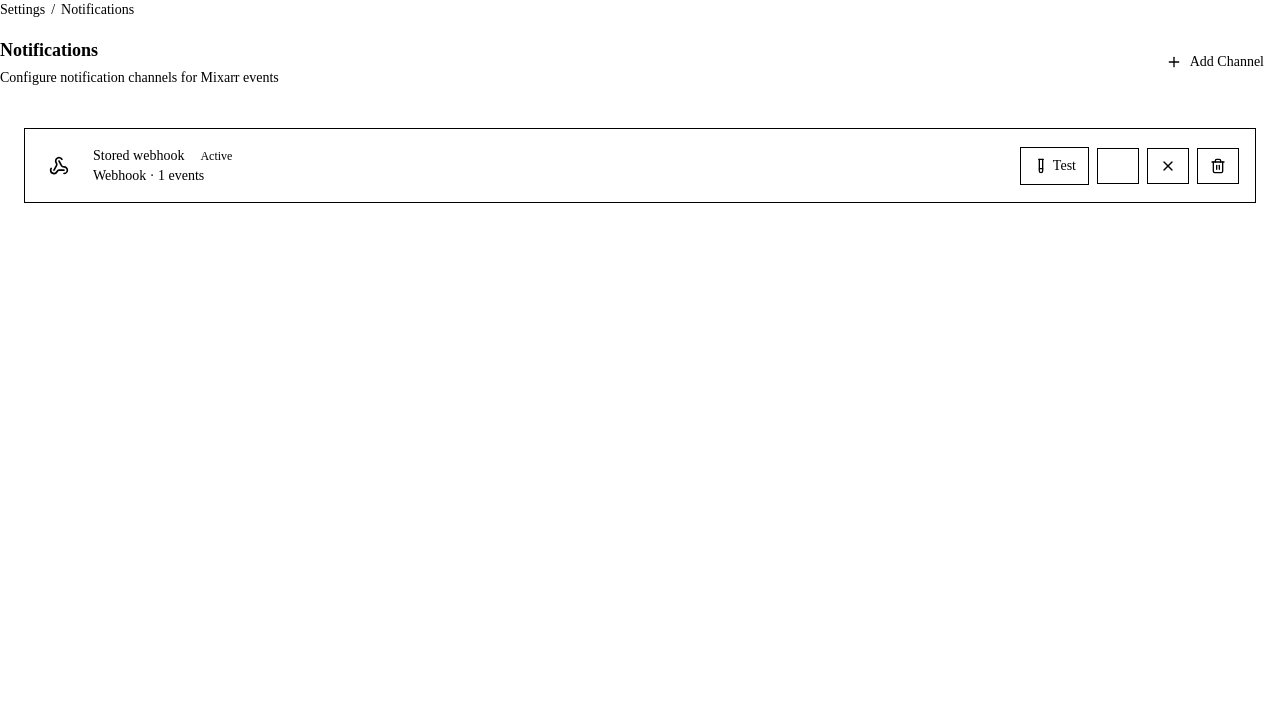
Test: refuses edited invalid headers on a masked channel and focuses the field
expect the heading "Stored webhook" is shown: met, box x1=93 y1=145 x2=184 y2=166
Step 1. Click the 3rd button → [1118, 166], box x1=1097 y1=148 x2=1139 y2=184
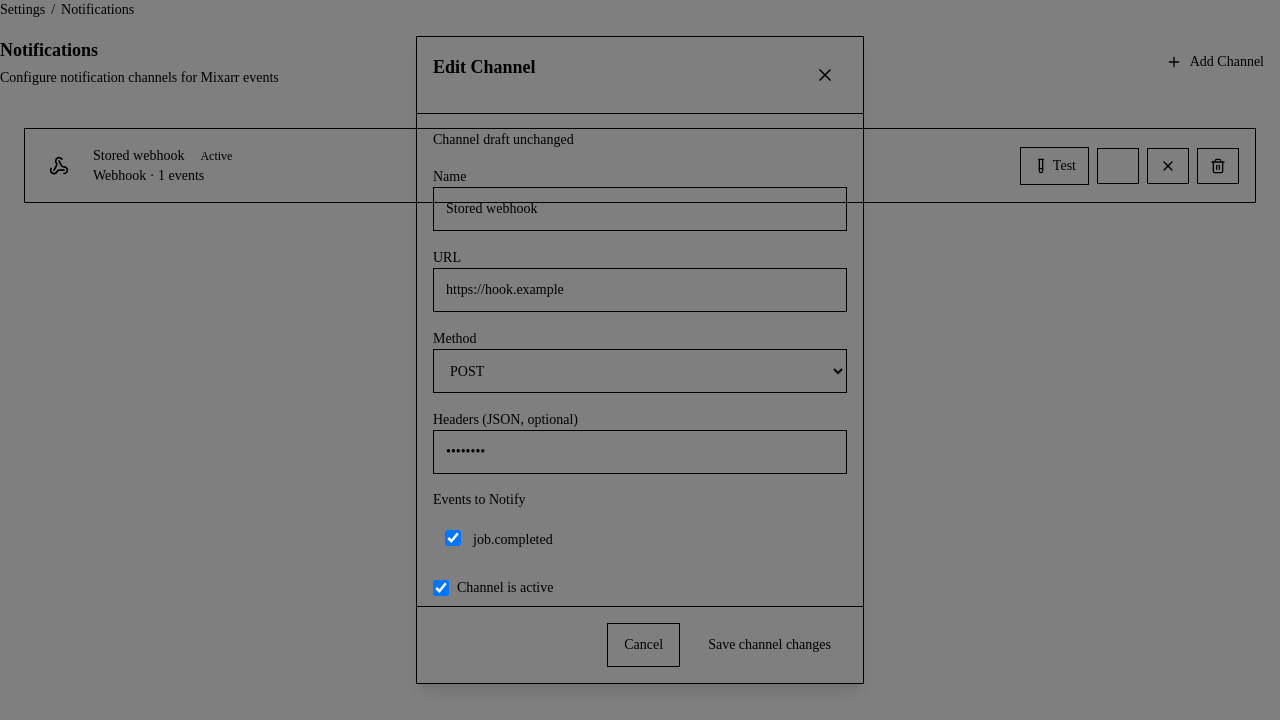
Step 2. Replace the text in the field labelled "Headers (JSON, optional)" with "\"arbitrary string\"" → [640, 452], box x1=433 y1=430 x2=847 y2=474
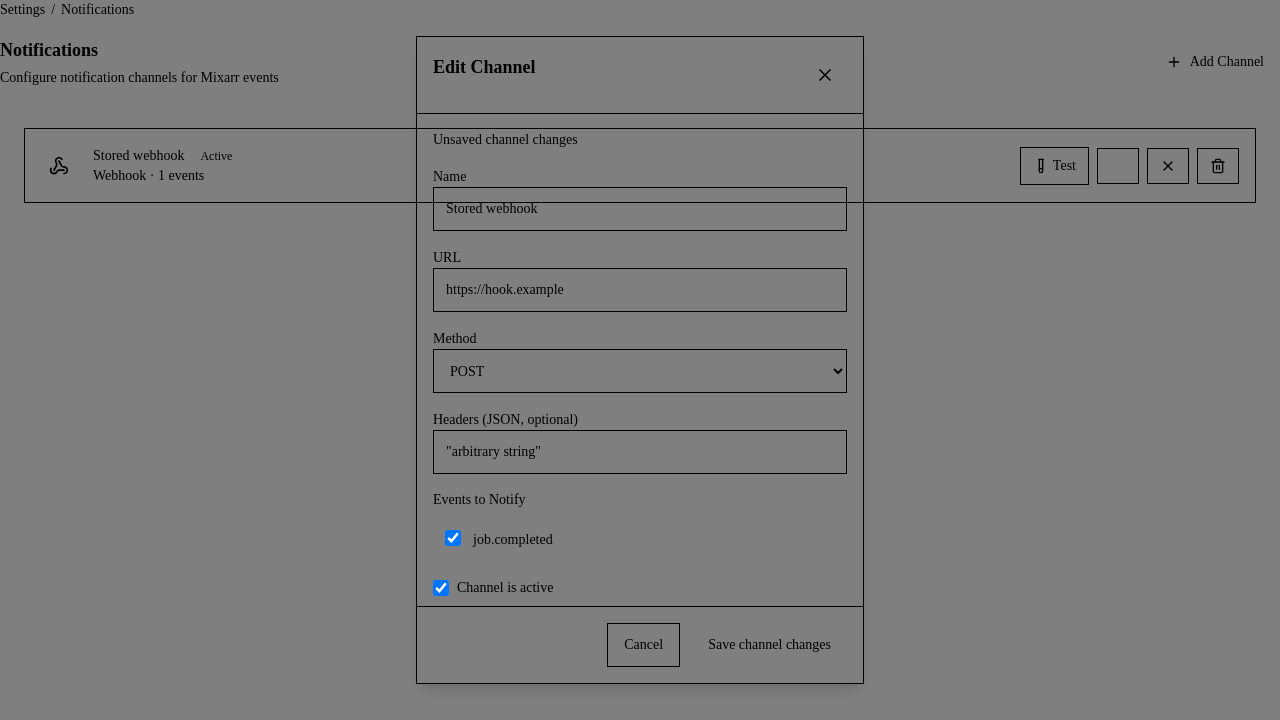
Step 3. Click the button "Save channel changes" → [770, 645], box x1=692 y1=623 x2=847 y2=667
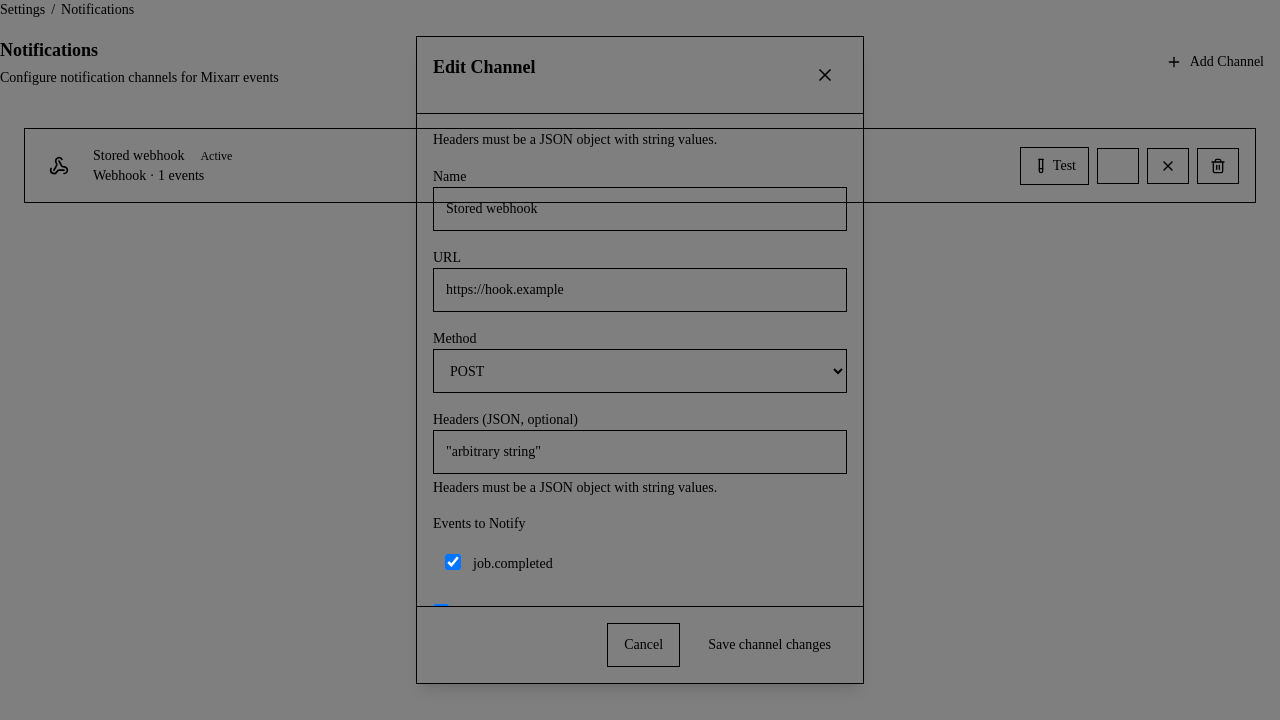
expect the message reads "Headers must be a JSON object with string values.": met, box x1=433 y1=132 x2=717 y2=147
